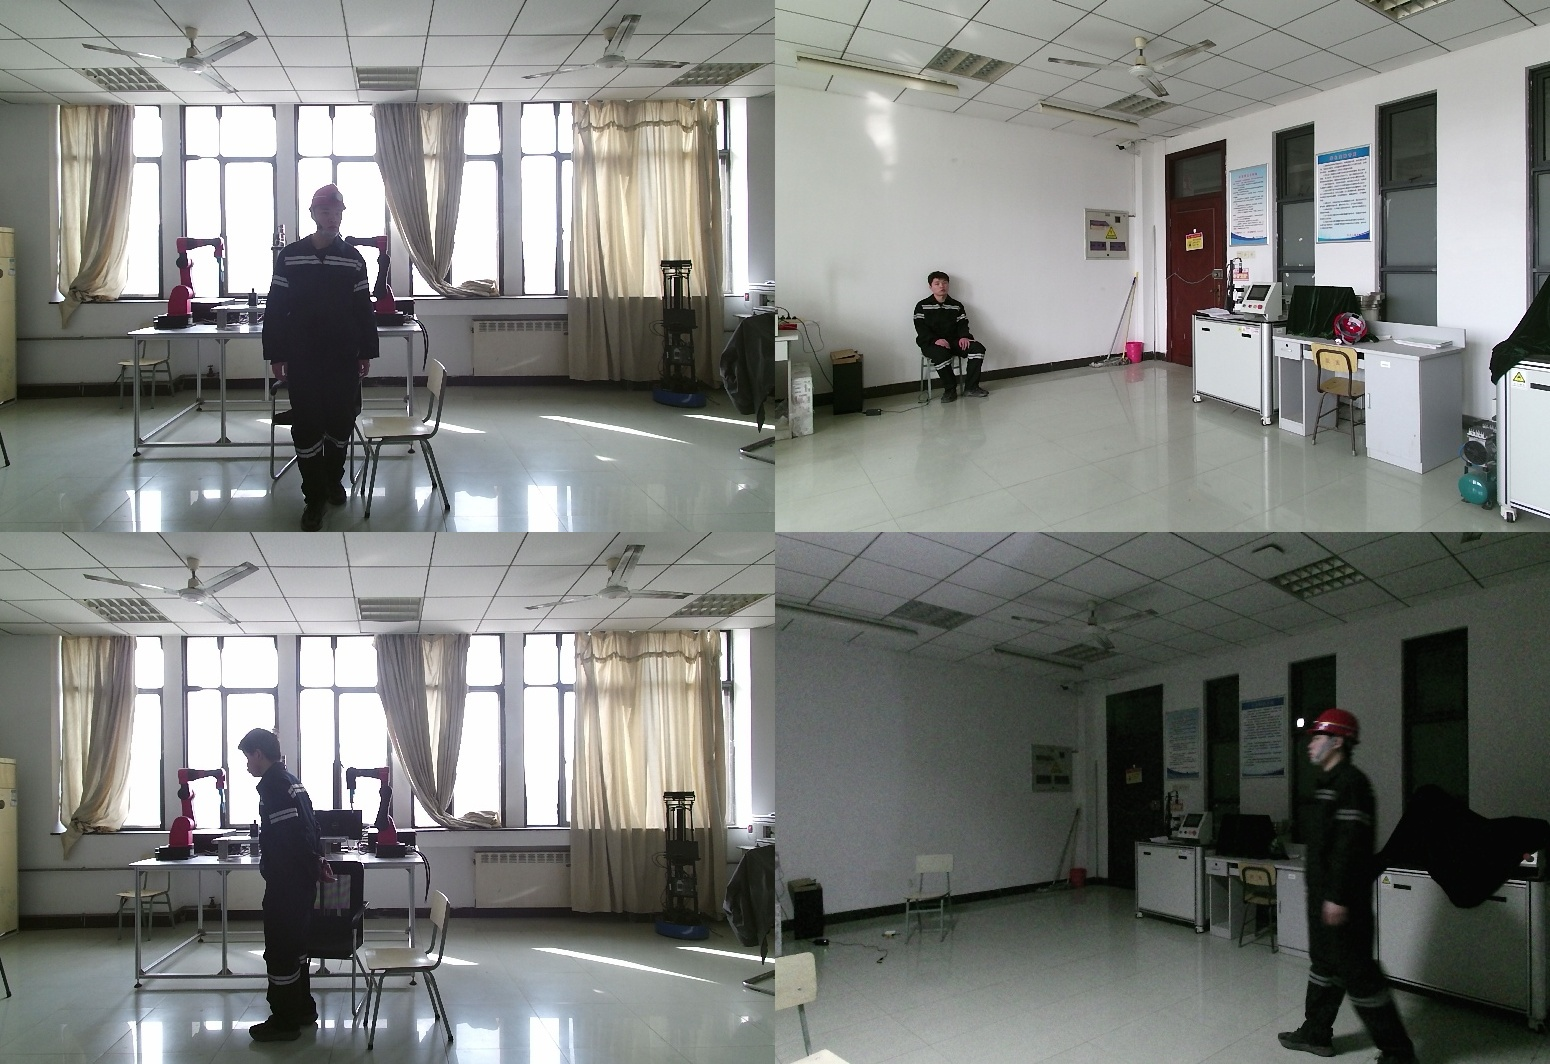person: (1286, 706, 1438, 1064), (262, 184, 387, 532), (238, 728, 336, 1039), (910, 270, 987, 405)
